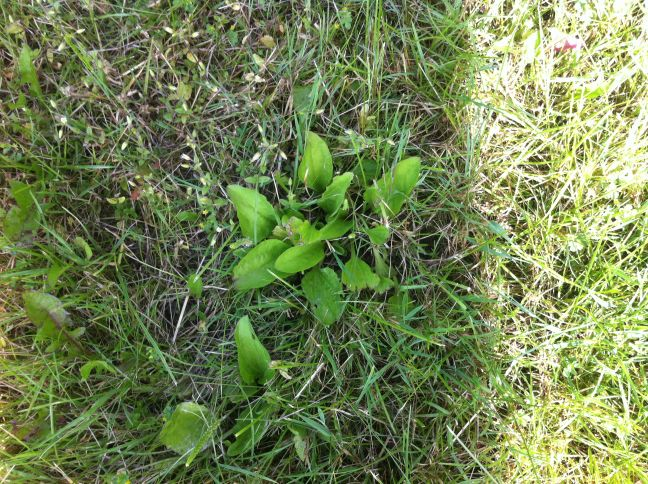weed1: (216, 131, 419, 328), (159, 315, 293, 458)
